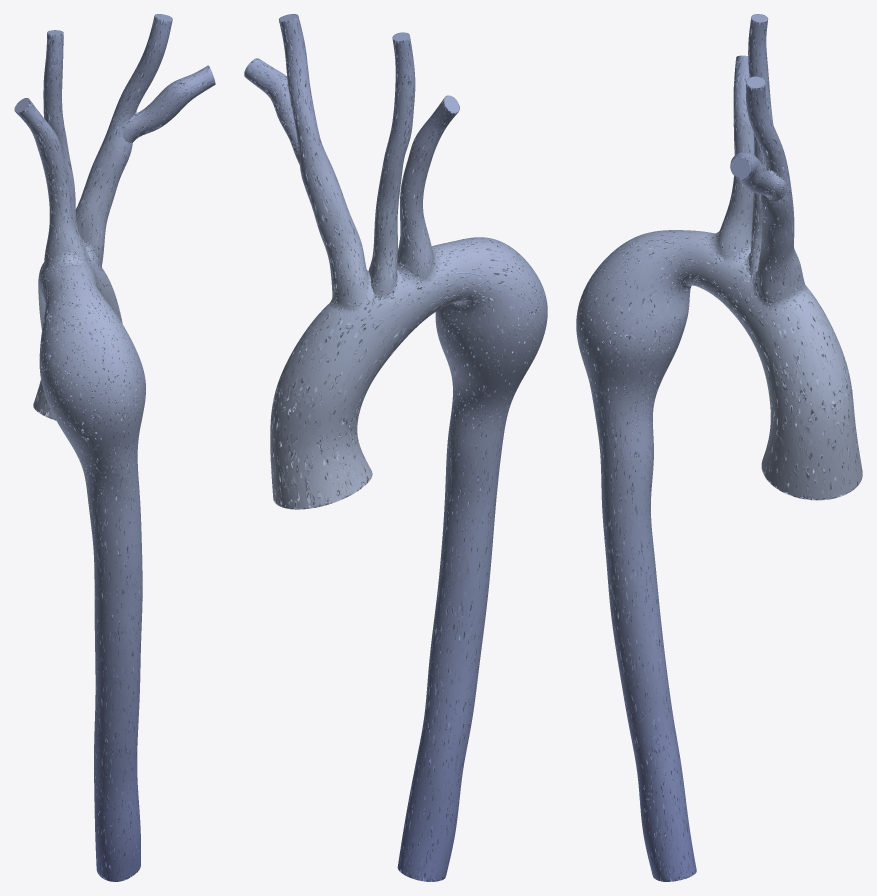
File: alex-marfan-pathlines-many.glb
3 renders of one model, left to right at view 1: azimuth 30°, elevation 25°; view 2: azimuth 150°, elevation 25°; view 3: azimuth 270°, elevation 25°, orthographic. The views are drawn at different scales.
Size of the model in its own units: 8.65 by 30.74 by 9.39.
